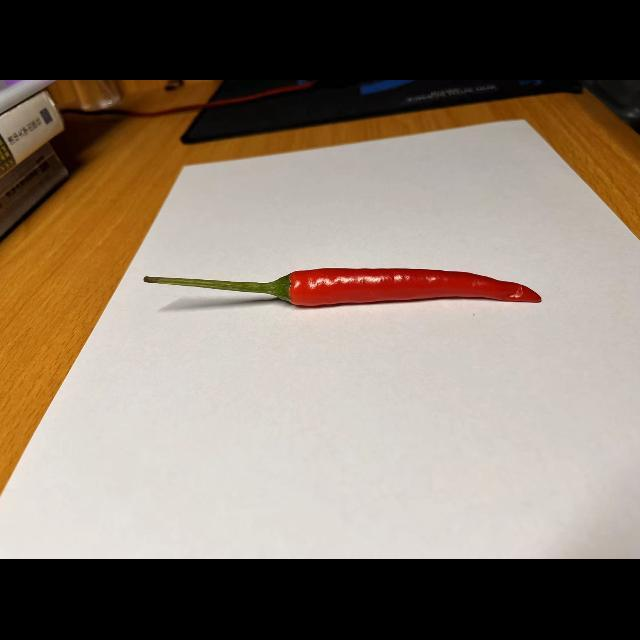chili_pepper: (142, 256, 544, 316)
